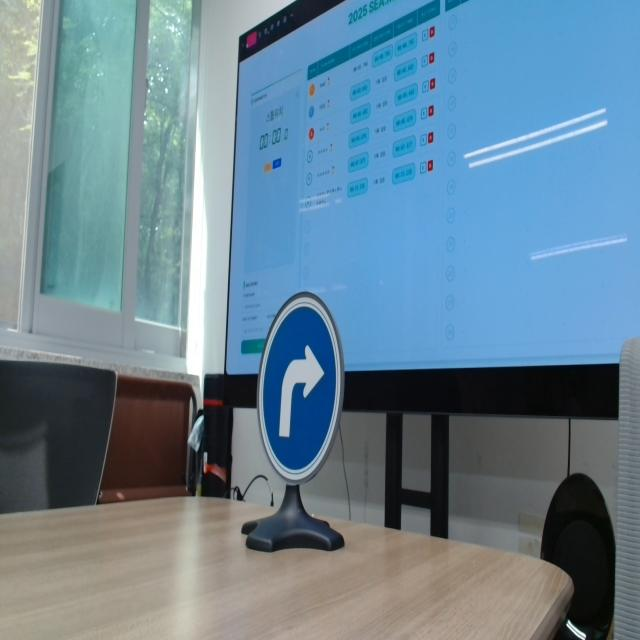right_dierection: (258, 282, 356, 506)
